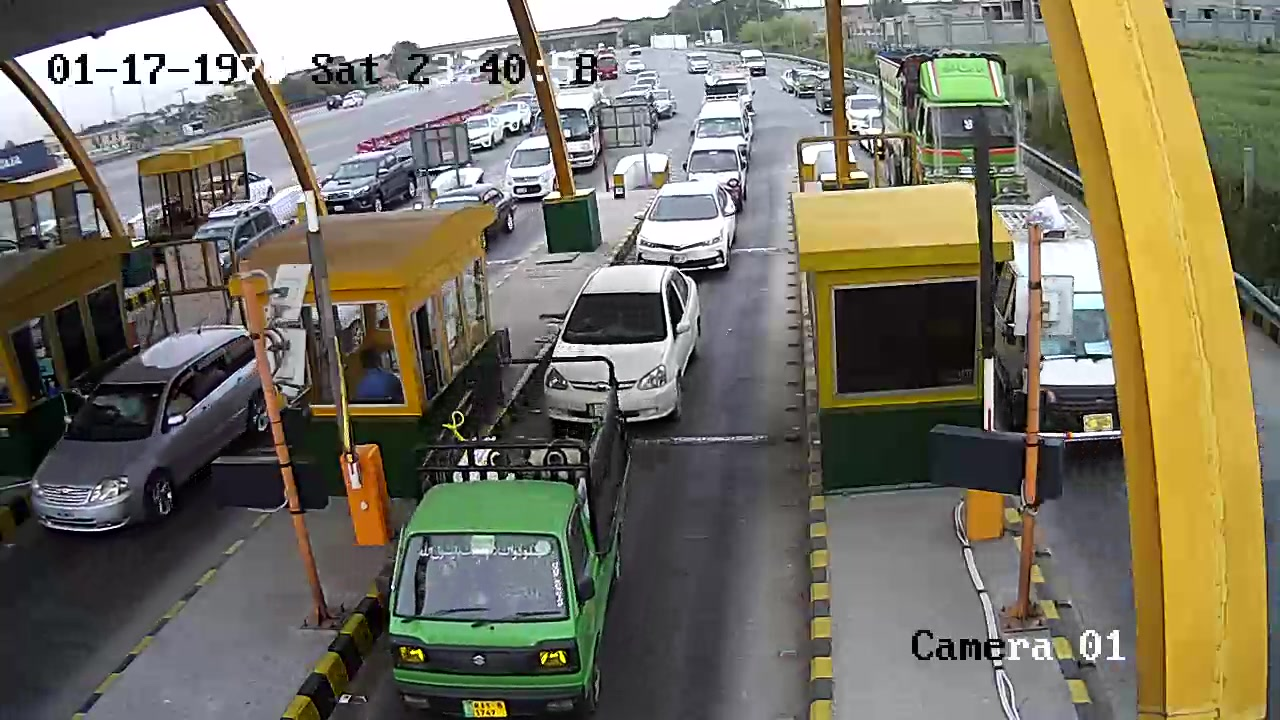F1: (386, 356, 636, 715)
